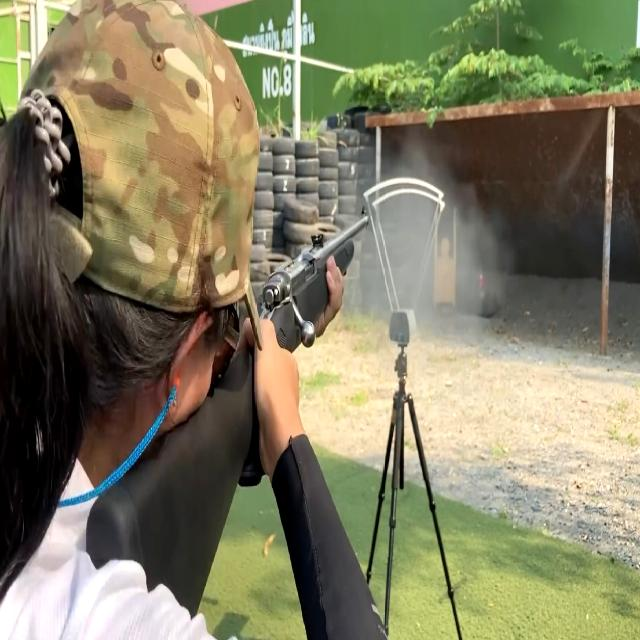rifle: (79, 187, 378, 620)
